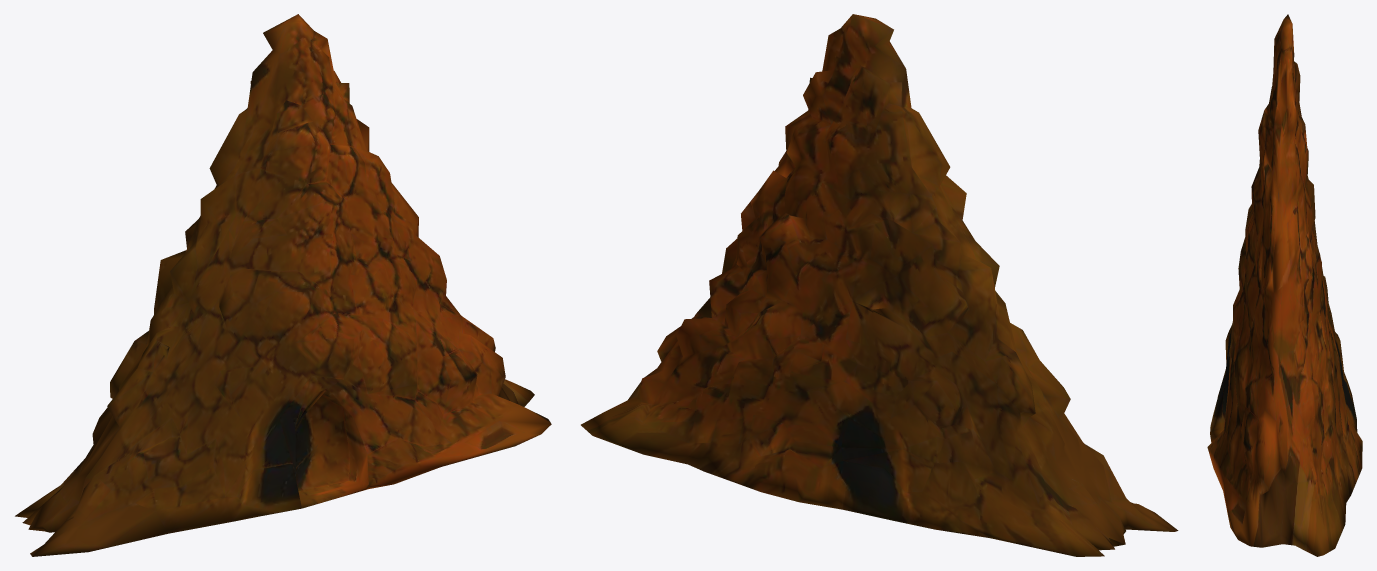
The model's file is toad-prop3d-mound.glb.
3 renders of one model, left to right at view 1: azimuth 30°, elevation 25°; view 2: azimuth 150°, elevation 25°; view 3: azimuth 270°, elevation 25°, orthographic. The views are drawn at different scales.
Visible parts, largest first — view 1: world; view 2: world; view 3: world.
Part boxes in pixels (x1,y1,x2,y2): world: (15,14,551,556); world: (581,14,1178,556); world: (1207,14,1362,556).
Bounding box in the file's own units: 0.3 × 0.24 × 0.08.
1 material, 1 textured.
